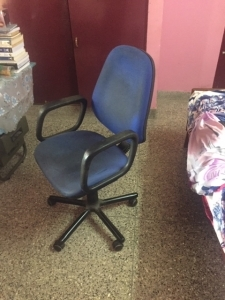chair: (34, 44, 156, 252)
